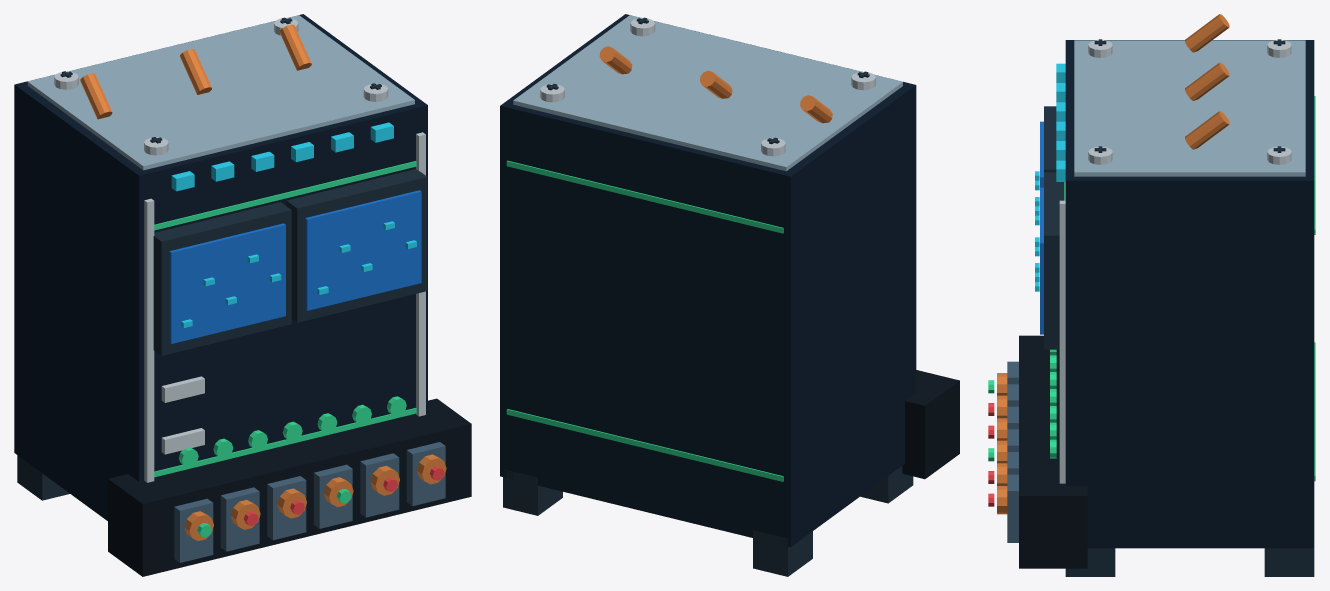
The model's file is 61_L77_Regulated5VControlSupply.fbx.
3 views of the same model, side by side, from view 1: azimuth 30°, elevation 25°; view 2: azimuth 150°, elevation 25°; view 3: azimuth 270°, elevation 25° (orthographic).
Parts seen in each view (by area): view 1: Regulated5VControlSupply; view 2: Regulated5VControlSupply; view 3: Regulated5VControlSupply.
Part boxes in pixels (x1,y1,x2,y2): Regulated5VControlSupply: (14,14,471,576); Regulated5VControlSupply: (500,14,959,576); Regulated5VControlSupply: (988,14,1315,576).
Size of the model in its own units: 99 by 126 by 85.6.
